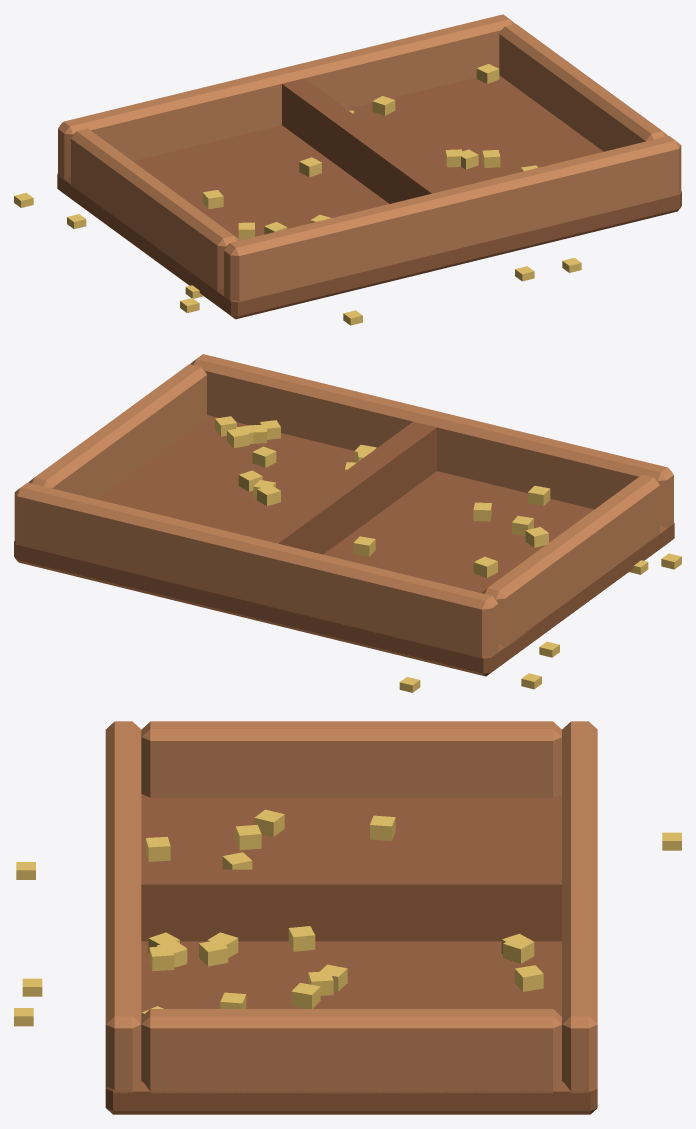
File: Yemlik_Tavuk.fbx
3 renders of one model, top to bottom at view 1: azimuth 30°, elevation 25°; view 2: azimuth 150°, elevation 25°; view 3: azimuth 270°, elevation 25°, orthographic. The views are drawn at different scales.
Parts seen in each view (by area): view 1: Yemlik_Tavuk; view 2: Yemlik_Tavuk; view 3: Yemlik_Tavuk.
Part boxes in pixels (x1=…): Yemlik_Tavuk: x1=14, y1=14, x2=681, y2=325; Yemlik_Tavuk: x1=14, y1=354, x2=681, y2=692; Yemlik_Tavuk: x1=14, y1=721, x2=681, y2=1114.
Size of the model in its own units: 87.48 by 12 by 74.66.
